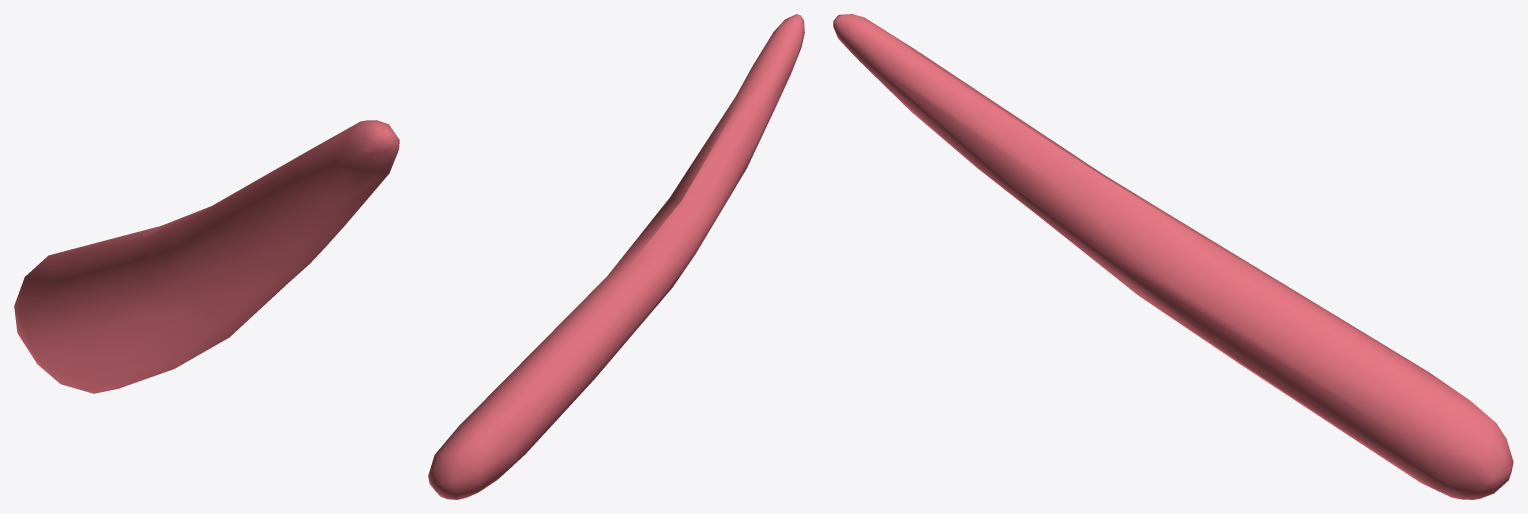
Rendered from fma8666_fj6030.glb.
The picture shows the model from 3 angles, left to right: view 1: azimuth 30°, elevation 25°; view 2: azimuth 150°, elevation 25°; view 3: azimuth 270°, elevation 25°; orthographic projection. The views are drawn at different scales.
Parts seen in each view (by area): view 1: FMA8666_FJ6030; view 2: FMA8666_FJ6030; view 3: FMA8666_FJ6030.
Part boxes in pixels (x1=…): FMA8666_FJ6030: x1=14, y1=120, x2=399, y2=393; FMA8666_FJ6030: x1=428, y1=14, x2=804, y2=499; FMA8666_FJ6030: x1=833, y1=14, x2=1513, y2=499.
Bounding box in the file's own units: 0.0081 × 0.019 × 0.0278.
